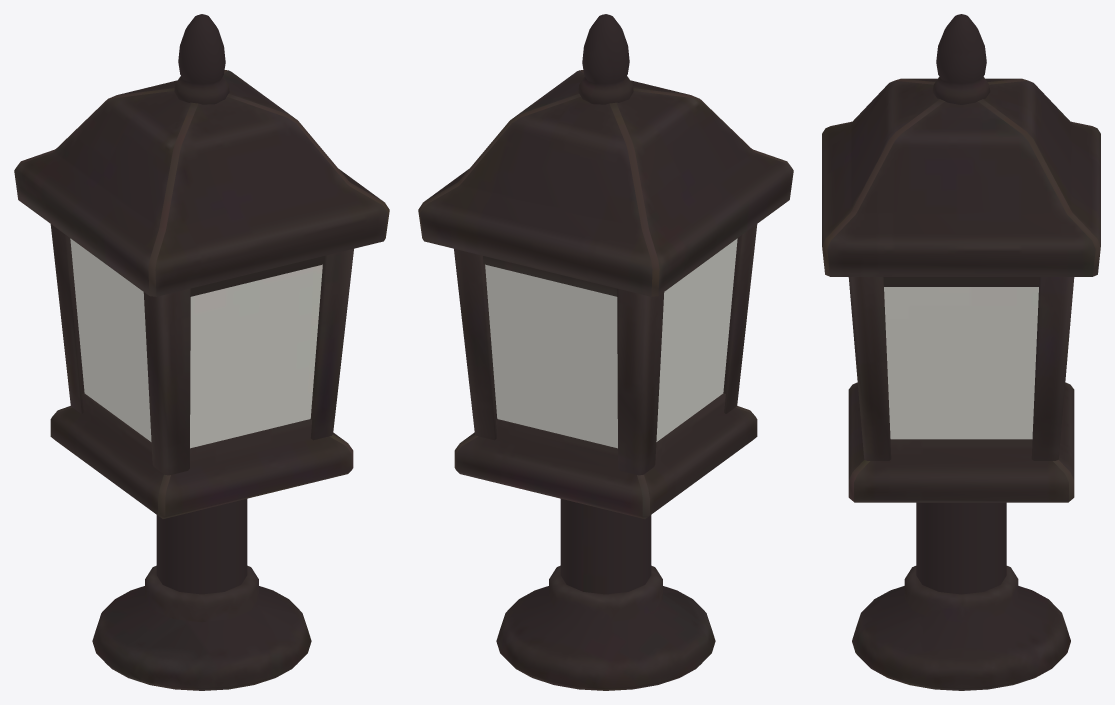
Rendered from garden-lantern.glb.
The picture shows the model from 3 angles, left to right: view 1: azimuth 30°, elevation 25°; view 2: azimuth 150°, elevation 25°; view 3: azimuth 270°, elevation 25°; orthographic projection.
Bounding box in the file's own units: 3.77 × 9.44 × 3.77.
1 material, 1 textured.
